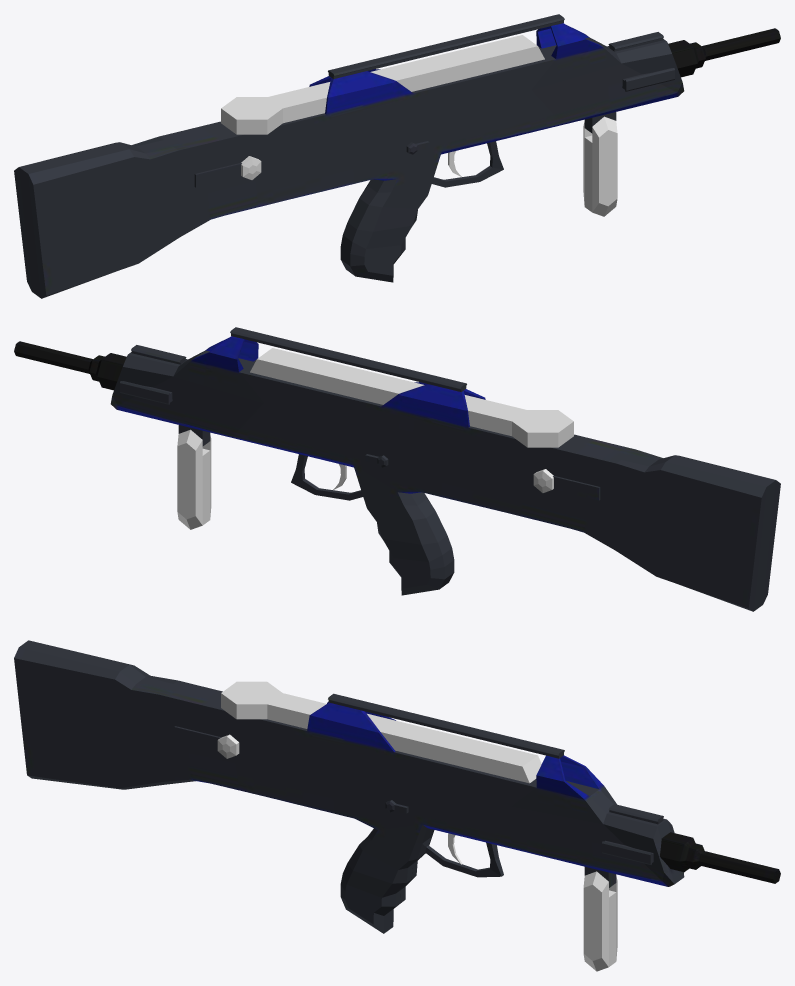
The model's file is PoliceStandardRifle.fbx.
3 renders of one model, top to bottom at view 1: azimuth 30°, elevation 25°; view 2: azimuth 150°, elevation 25°; view 3: azimuth 330°, elevation 25°, orthographic.
Parts seen in each view (by area): view 1: MainBody, Magazine, Grip; view 2: MainBody, Magazine, Grip; view 3: MainBody, Magazine, Grip.
Boxes of the visible parts, bbox=[...] form: MainBody: bbox=[14, 14, 780, 298]; Magazine: bbox=[221, 35, 544, 134]; Grip: bbox=[583, 116, 617, 216]; MainBody: bbox=[14, 327, 780, 611]; Magazine: bbox=[250, 348, 573, 447]; Grip: bbox=[177, 429, 211, 529]; MainBody: bbox=[14, 640, 780, 933]; Magazine: bbox=[221, 681, 541, 783]; Grip: bbox=[583, 871, 617, 971].
Bounding box in the file's own units: 139 × 38.96 × 9.87.
